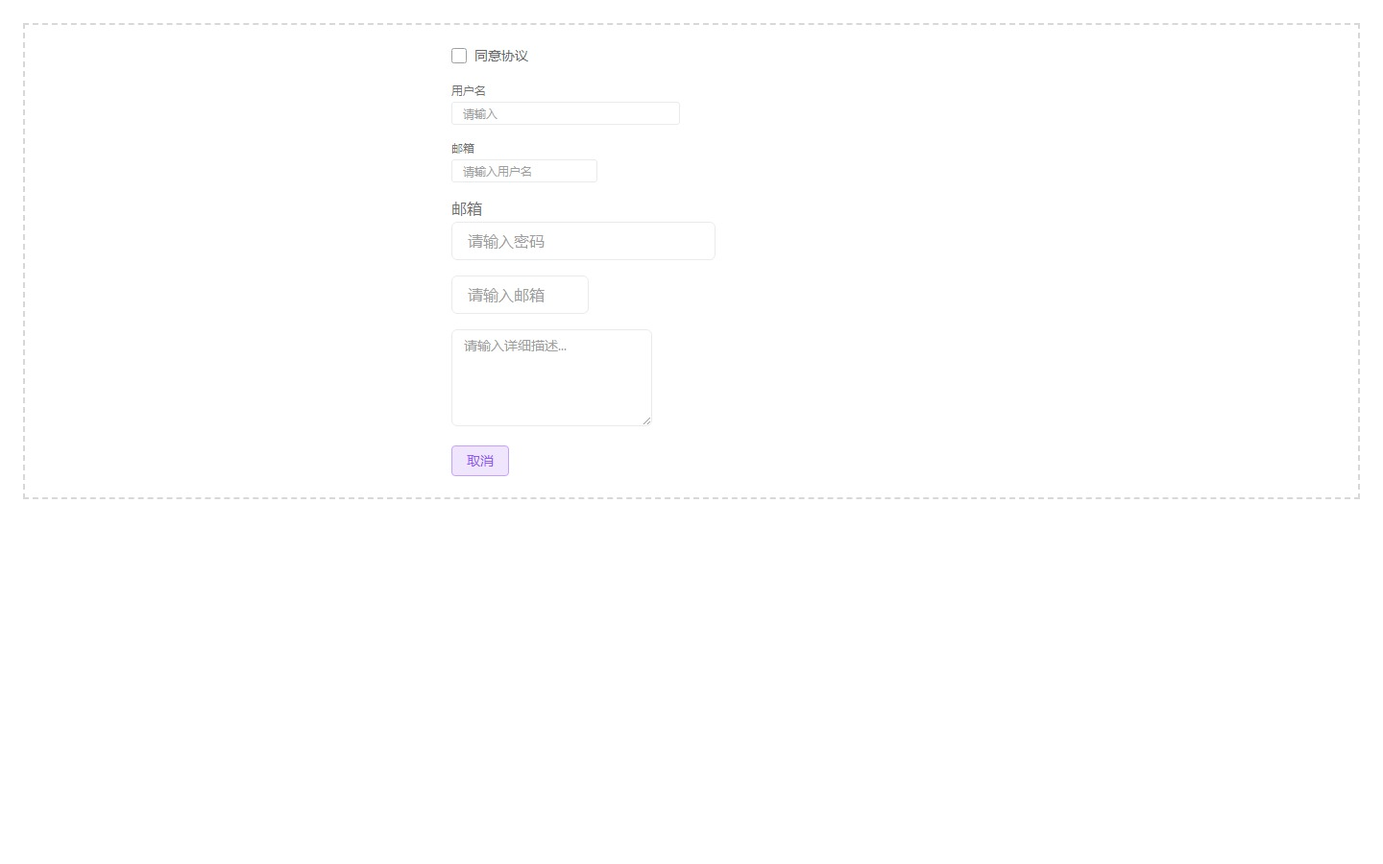button: (451, 445, 509, 476)
checkbox: (451, 48, 467, 63)
icon: (474, 46, 528, 64)
input: (451, 221, 716, 260), (451, 101, 680, 124), (451, 275, 589, 313), (451, 159, 597, 182)
modal: (23, 23, 1360, 499)
radio: (451, 46, 528, 64)
textarea: (451, 329, 652, 426)
